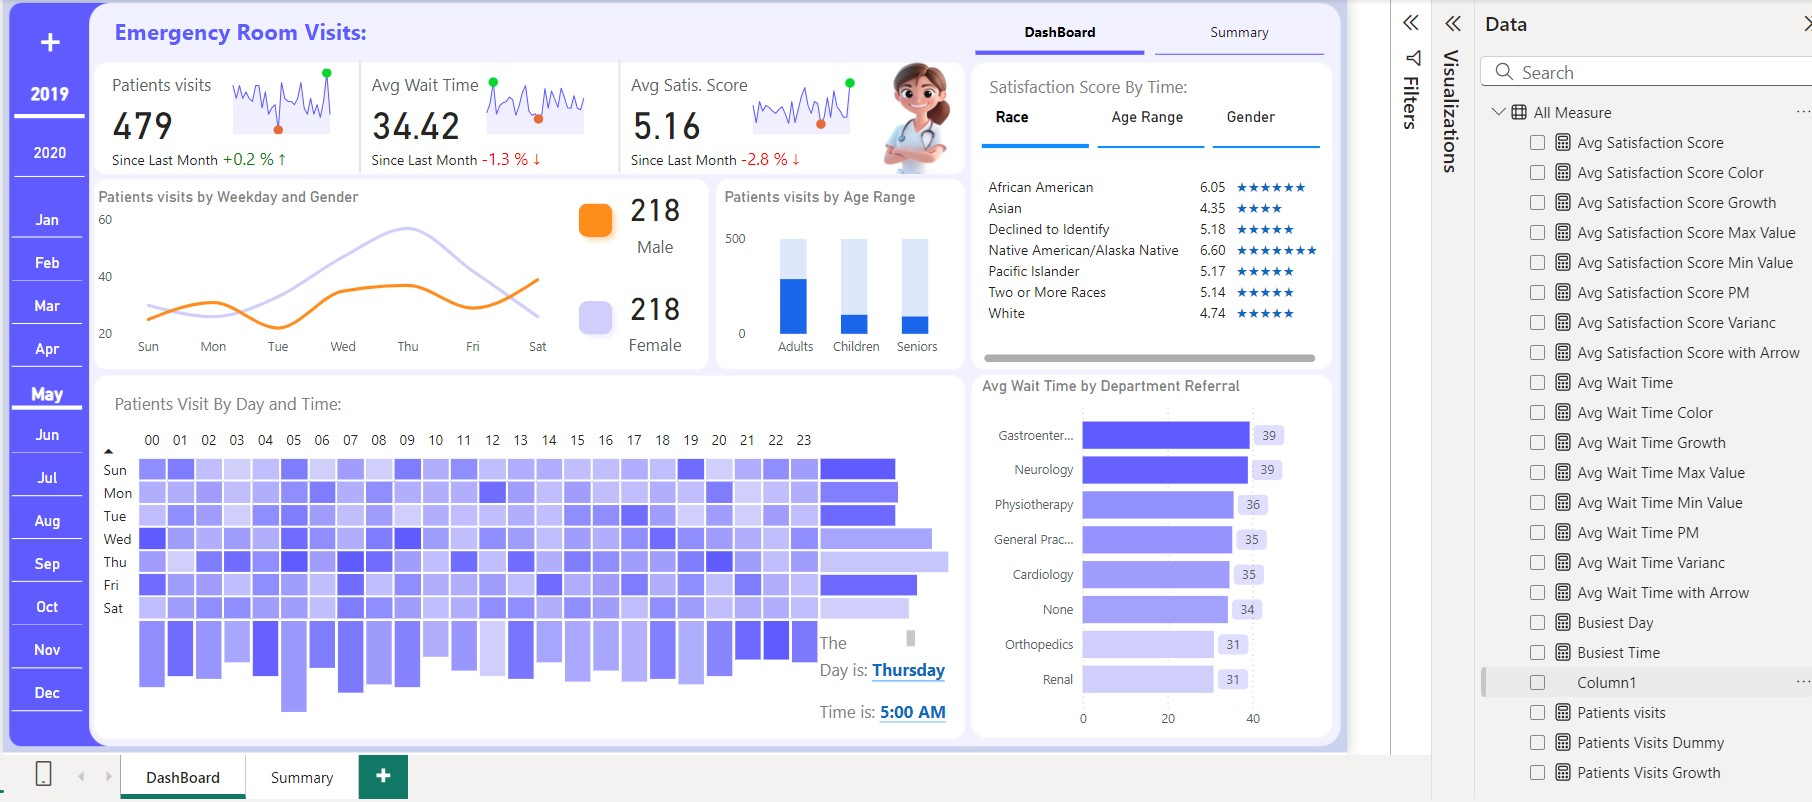

What the dashboard file says about the page in this screenshot:
{"tool":"powerbi","page":{"name":"DashBoard","canvas":[1280,720],"ordinal":0},"visuals":[{"type":"advancedSlicerVisual","fields":{"Values":["Calendar.Year"]},"box":[6,61.1,77.9,115.1],"z":0},{"type":"advancedSlicerVisual","fields":{"Values":["Calendar.Month"]},"box":[3.6,183.4,77.9,504.7],"z":1000},{"type":"cardVisual","fields":{"Data":["All Measure.Patient visits","All Measure.Avg Wait Time","All Measure.Avg Satisfacion Score"]},"box":[86.8,53.6,744.2,117.4],"z":2000},{"type":"lineChart","fields":{"Category":["Calendar.Day"],"Y":["All Measure.Patients visits","All Measure.Patients Visits Max Value","All Measure.Patients Visits Min Value"]},"box":[201.7,53.6,153.2,80.4],"z":3000},{"type":"areaChart","fields":{"Category":["Calendar.Day"],"Y":["All Measure.Avg Wait Time","All Measure.Avg Wait Time Max Value","All Measure.Avg Wait Time Min Value"]},"box":[442.9,53.6,153.2,80.4],"z":4000},{"type":"areaChart","fields":{"Y":["All Measure.Avg Satisfacion Score","All Measure.Avg Satisfaction Score Max Value","All Measure.Avg Satisfaction Score Min Value"],"Category":["Calendar.Day"]},"box":[696.9,53.6,153.2,80.4],"z":5000},{"type":"lineChart","fields":{"Y":["All Measure.Patients visits"],"Category":["Calendar.Weekday"],"Series":["Hospital ER.Gender"]},"box":[86.2,179.9,453.5,169.3],"z":6000},{"type":"card","fields":{"Values":["All Measure.Patients visits"]},"box":[575.9,170.8,90,80],"z":7000},{"type":"card","fields":{"Values":["All Measure.Patients visits"]},"box":[575.9,264.5,90,80],"z":8000},{"type":"shape","box":[539.6,278.1,49.9,49.9],"z":9000},{"type":"shape","box":[539.6,185.9,49.9,49.9],"z":10000},{"type":"clusteredColumnChart","title":"Patients visits by Age Range","fields":{"Category":["Hospital ER.Age Range"],"Y":["All Measure.Patients visits","All Measure.Patients Visits Dummy"]},"box":[681.7,179.9,231.3,169.3],"z":11000},{"type":"tableEx","fields":{"Values":["Hospital ER.Race","All Measure.Avg Satisfaction Score","All Measure.Score Rating"]},"box":[927.3,134.6,332,216.9],"z":12000},{"type":"advancedSlicerVisual","fields":{"Values":["Satis_Parm.Satis_Parm"]},"box":[927.3,76.2,332.1,71.3],"z":13000},{"type":"clusteredBarChart","fields":{"Y":["All Measure.Avg Wait Time"],"Category":["Hospital ER.Department Referral"]},"box":[927,359.6,353.3,344.4],"z":14000},{"type":"pivotTable","fields":{"Rows":["Calendar.Weekday"],"Columns":["Hospital ER.Hour"],"Values":["All Measure.Patients visits"]},"box":[85.7,403.6,696.4,194],"z":15000},{"type":"clusteredBarChart","fields":{"Category":["Calendar.Weekday"],"Y":["All Measure.Patients visits"]},"box":[773.8,425,139.4,170.6],"z":16000},{"type":"clusteredColumnChart","fields":{"Category":["Hospital ER.Hour"],"Y":["All Measure.Patients visits"]},"box":[125,578.6,656,125],"z":17000},{"type":"textbox","box":[772.6,596.5,100.6,34],"z":18000},{"type":"textbox","box":[772.6,623.1,159.9,37],"z":19000},{"type":"textbox","box":[772.6,661.6,153.9,32.6],"z":20000},{"type":"textbox","box":[100.7,369.2,287.7,34.8],"z":21000},{"type":"textbox","box":[934.5,66.2,286.9,34.5],"z":22000},{"type":"textbox","box":[100.7,10.8,287.7,43.2],"z":23000},{"type":"pageNavigator","box":[926.6,7.2,333.2,46.8],"z":24000},{"type":"image","box":[7.1,14.3,76.2,52.4],"z":25000}]}

Visuals, with their boxes on the page's 1280x720 design canvas (x1, y1, x2, y2). These are canvas units, not pixel positions in the 1812x802 screenshot, which may show the page scaled, cropped or inside an application window:
advancedSlicerVisual - Calendar.Year: 6,61,84,176
advancedSlicerVisual - Calendar.Month: 4,183,82,688
cardVisual - All Measure.Patient visits x All Measure.Avg Wait Time: 87,54,831,171
lineChart - Calendar.Day x All Measure.Patients visits: 202,54,355,134
areaChart - Calendar.Day x All Measure.Avg Wait Time: 443,54,596,134
areaChart - All Measure.Avg Satisfacion Score x All Measure.Avg Satisfaction Score Max Value: 697,54,850,134
lineChart - All Measure.Patients visits x Calendar.Weekday: 86,180,540,349
card - All Measure.Patients visits: 576,171,666,251
card - All Measure.Patients visits: 576,264,666,344
shape: 540,278,590,328
shape: 540,186,590,236
"Patients visits by Age Range" clusteredColumnChart: 682,180,913,349
tableEx - Hospital ER.Race x All Measure.Avg Satisfaction Score: 927,135,1259,352
advancedSlicerVisual - Satis_Parm.Satis_Parm: 927,76,1259,148
clusteredBarChart - All Measure.Avg Wait Time x Hospital ER.Department Referral: 927,360,1280,704
pivotTable - Calendar.Weekday x Hospital ER.Hour: 86,404,782,598
clusteredBarChart - Calendar.Weekday x All Measure.Patients visits: 774,425,913,596
clusteredColumnChart - Hospital ER.Hour x All Measure.Patients visits: 125,579,781,704
textbox: 773,596,873,630
textbox: 773,623,932,660
textbox: 773,662,926,694
textbox: 101,369,388,404
textbox: 934,66,1221,101
textbox: 101,11,388,54
pageNavigator: 927,7,1260,54
image: 7,14,83,67
